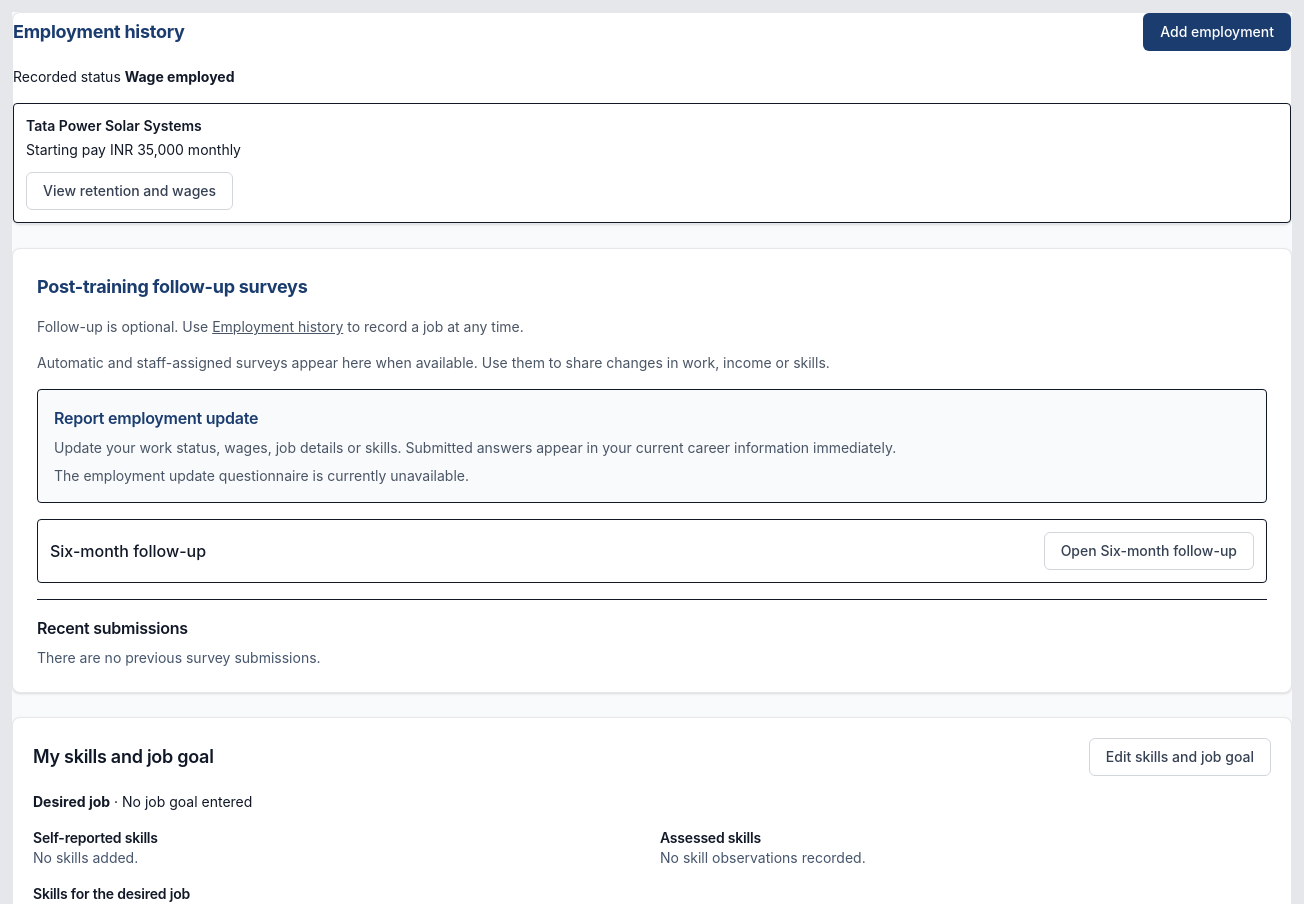
Test: TraineeJourneyPage Component › validates required answers and records a survey receipt in history
The image size is (1304, 904).
Click the button "Open Six-month follow-up" at (1149, 551), box [1044, 532, 1254, 570]
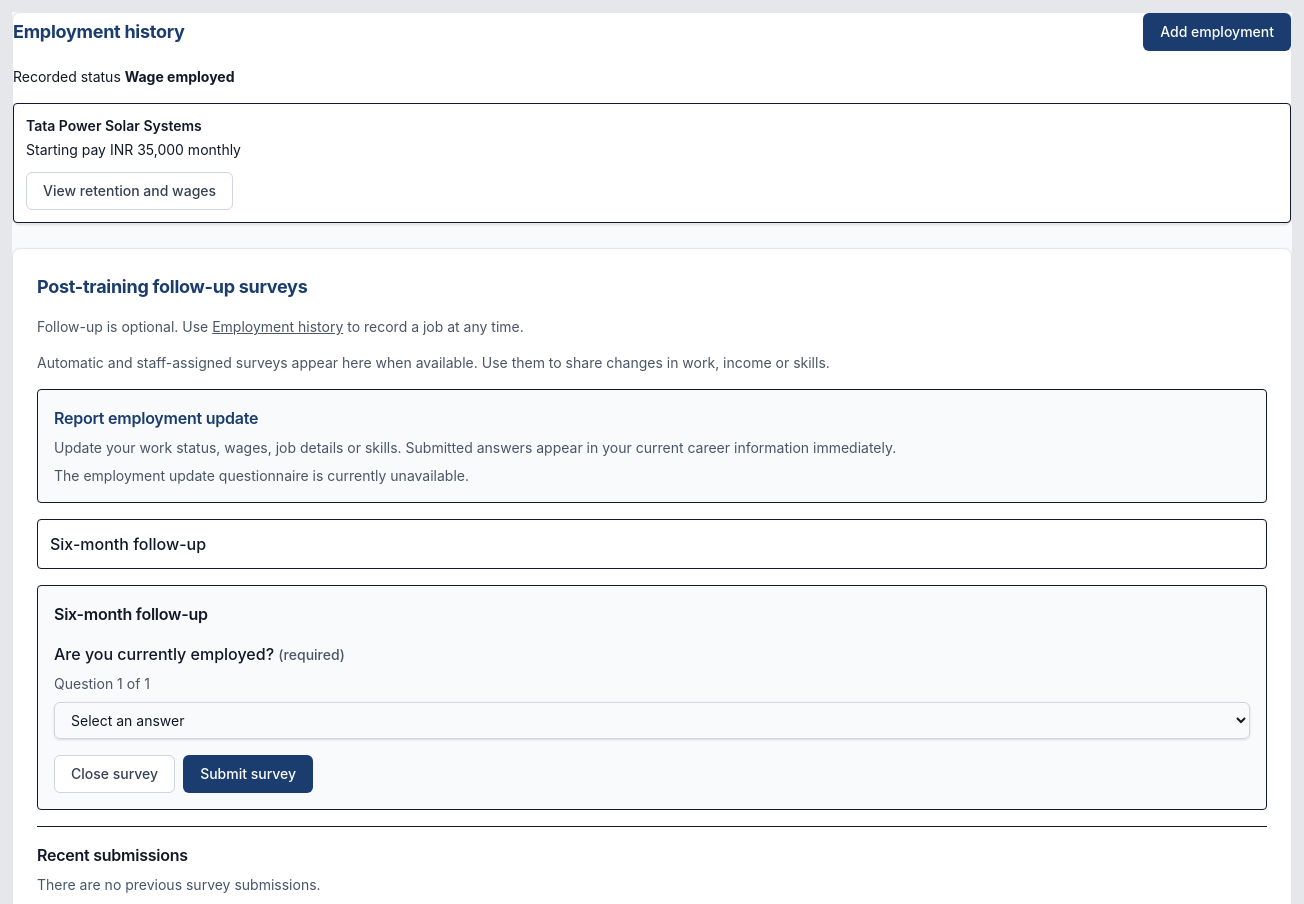
Click the button "Submit survey" at (248, 774), box [183, 755, 313, 793]
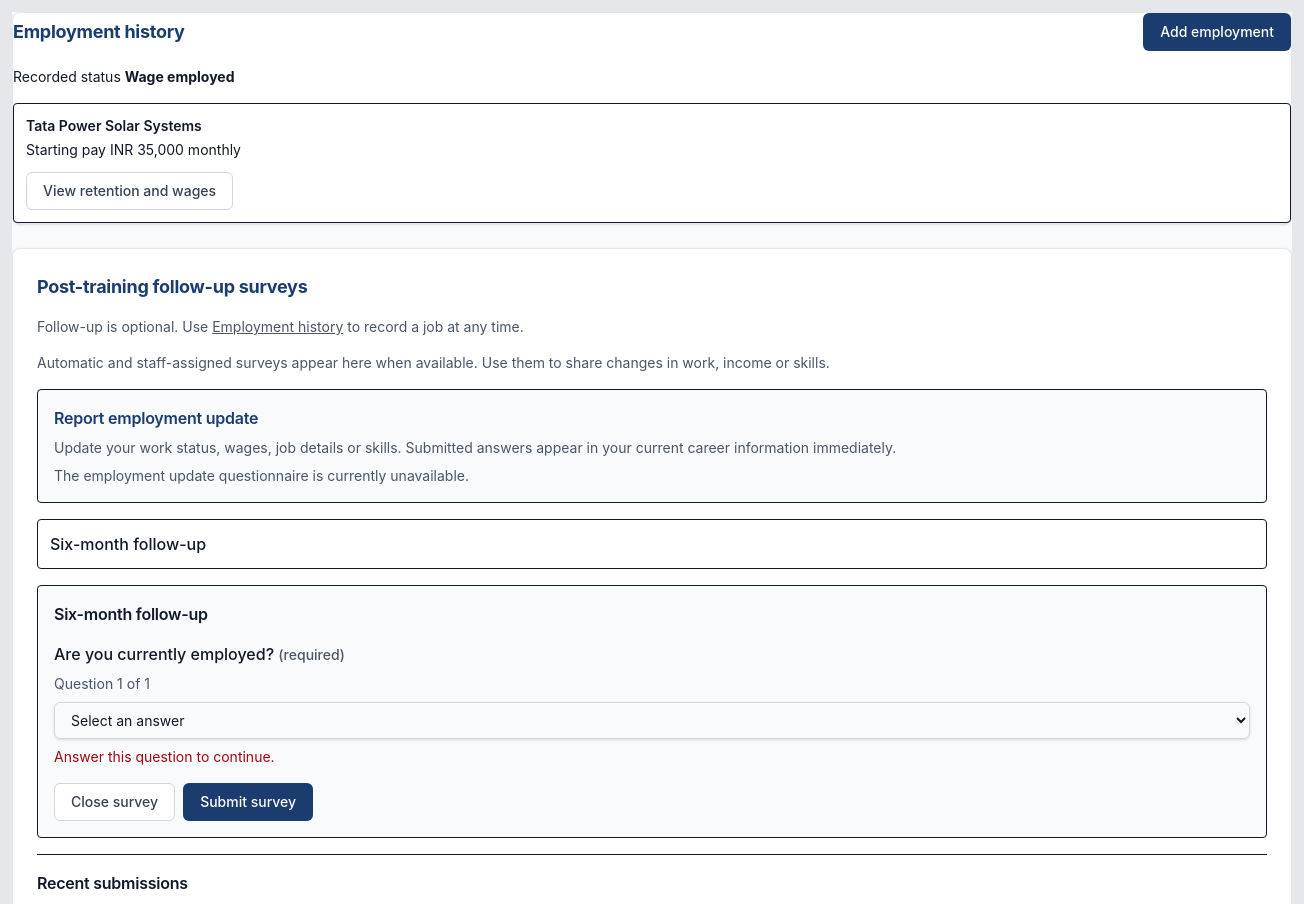
Expected: the message shows "Answer this question", [54, 748, 275, 765]
Select "No" in the dropdown named "Are you currently employed?" at (652, 720), box [54, 702, 1250, 739]
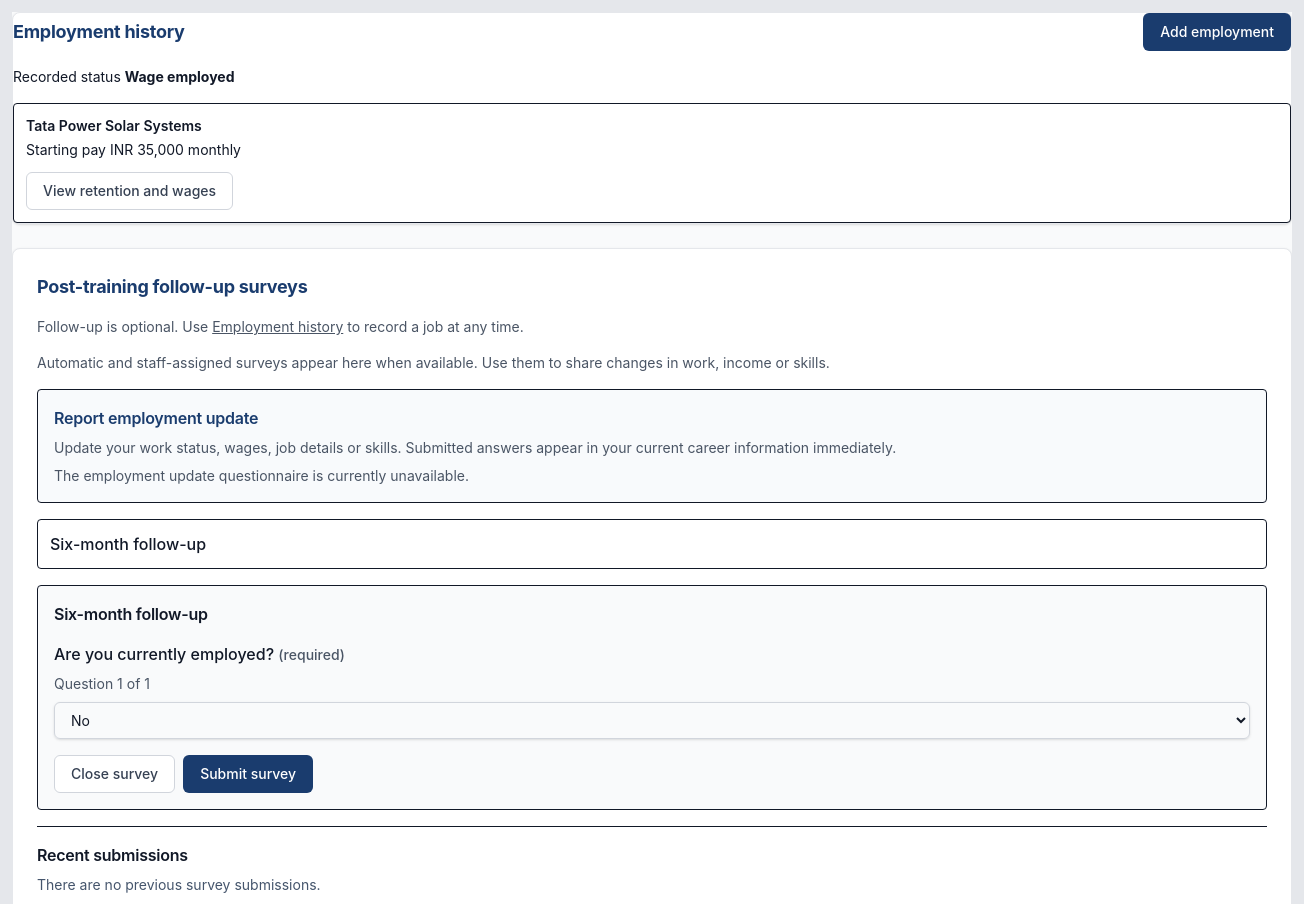
Click the button "Submit survey" at (248, 774), box [183, 755, 313, 793]
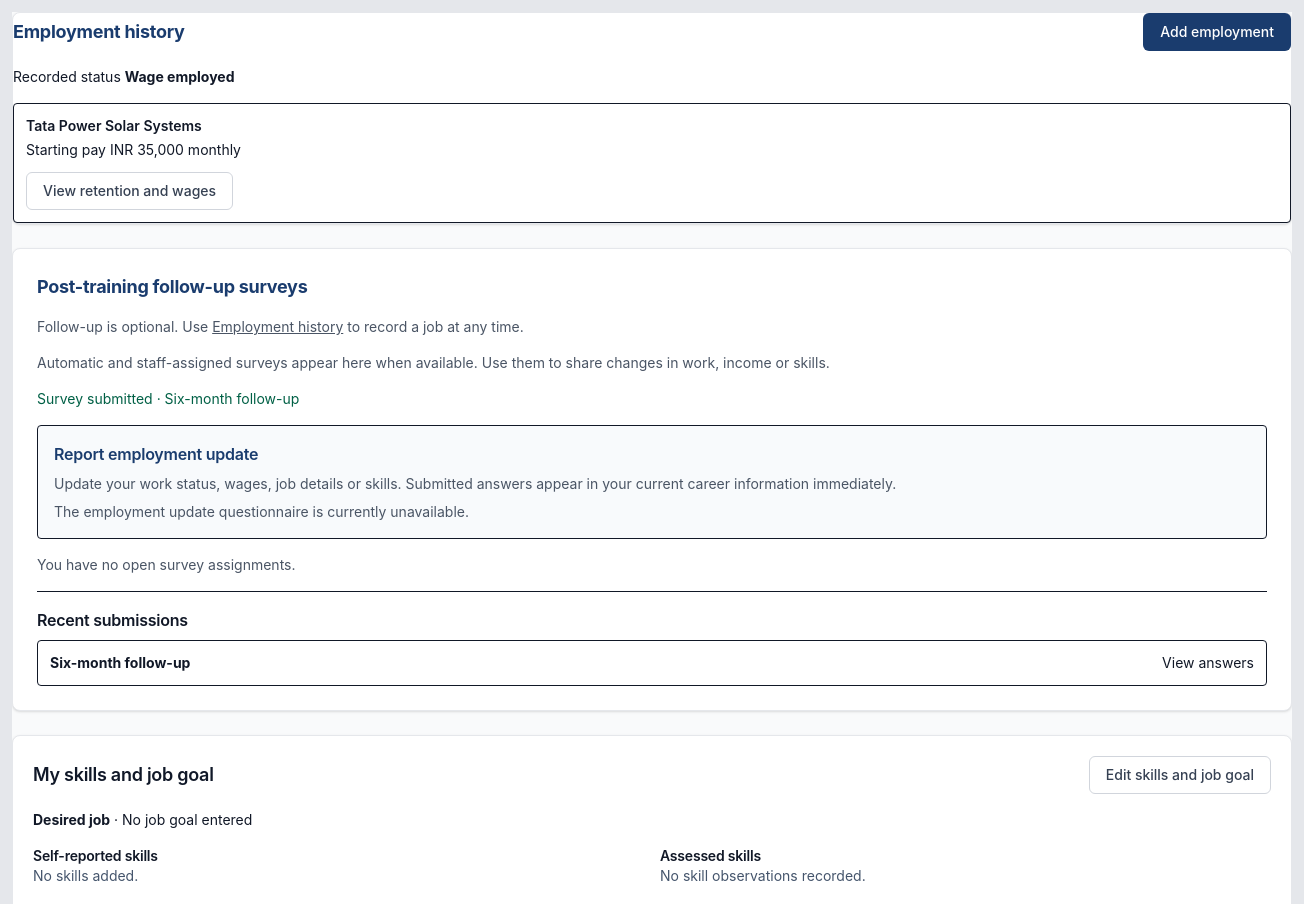
Expected: the button "Open Six-month follow-up" is not shown
Expected: the text "Survey submitted · Six-month follow-up" is shown, [37, 390, 299, 407]
